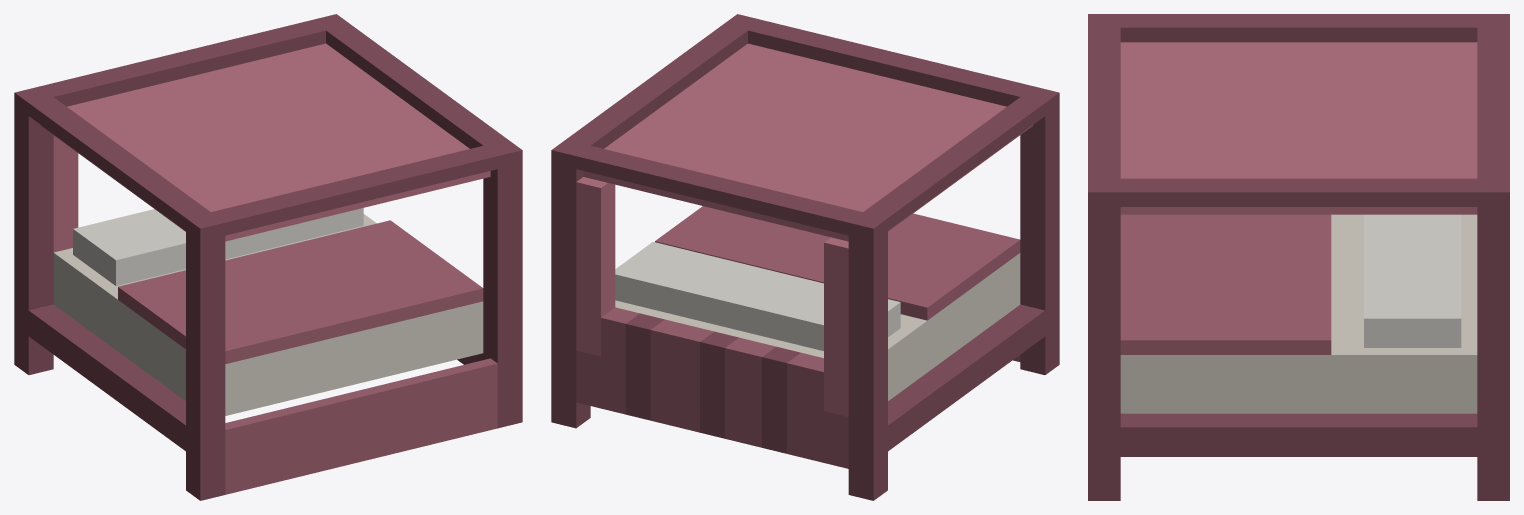
File: cama_noble_dosel_doble_01.glb
The picture shows the model from 3 angles, left to right: view 1: azimuth 30°, elevation 25°; view 2: azimuth 150°, elevation 25°; view 3: azimuth 270°, elevation 25°; orthographic projection. The views are drawn at different scales.
Parts seen in each view (by area): view 1: cama_noble_dosel_doble; view 2: cama_noble_dosel_doble; view 3: cama_noble_dosel_doble.
Part boxes in pixels (<box>): cama_noble_dosel_doble: <box>14,14,522,500</box>; cama_noble_dosel_doble: <box>551,14,1059,500</box>; cama_noble_dosel_doble: <box>1088,14,1509,500</box>.
Size of the model in its own units: 2 by 1.62 by 2.
